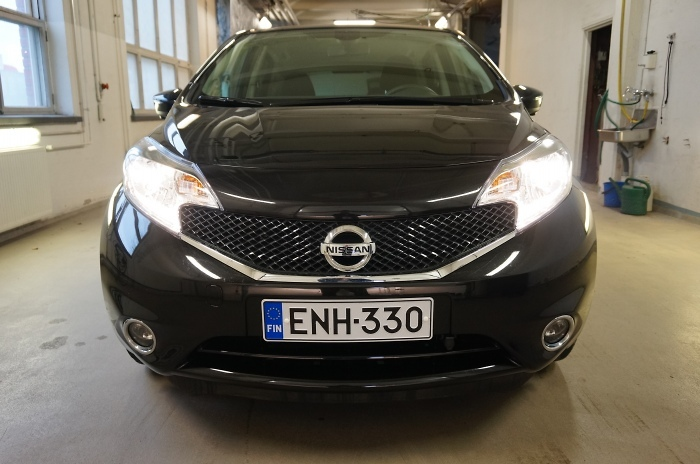license: (257, 295, 434, 345)
